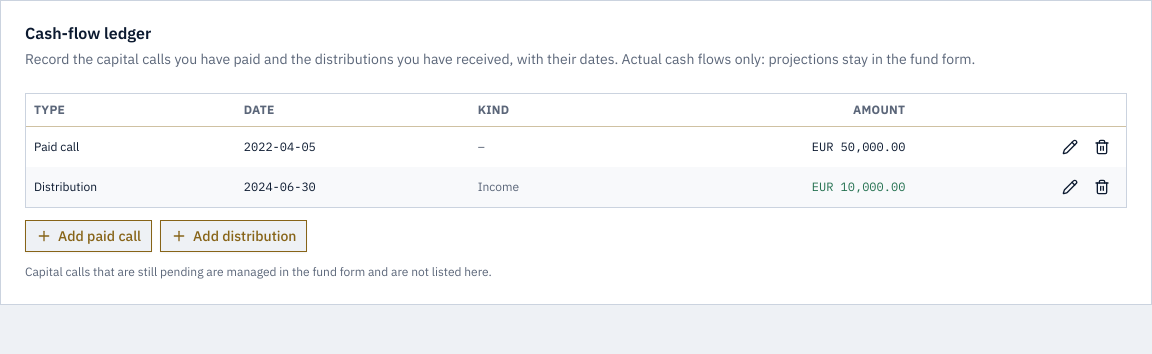
Test: PrivateEquityLedgerEditor › shows a server error without refreshing
Click the button named "Remove the Distribution dated 2024-06-30": (1102, 186) [1086,170,1118,202]
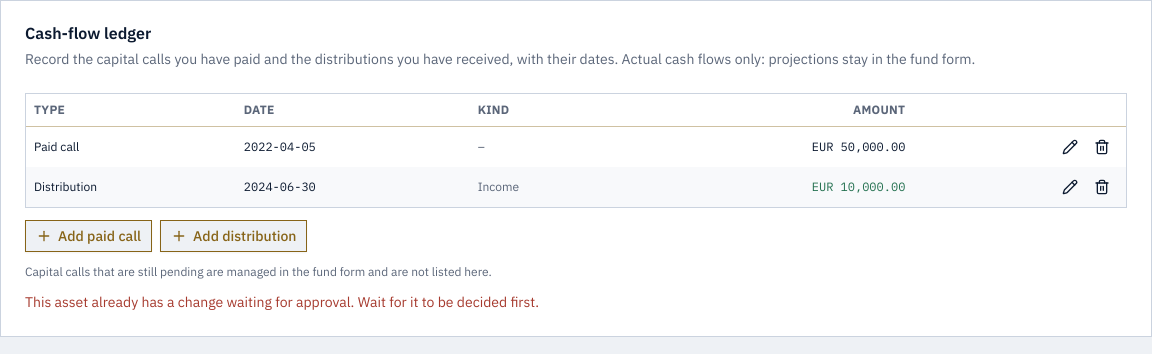
Check: the message is shown, box [25,292,539,310]
